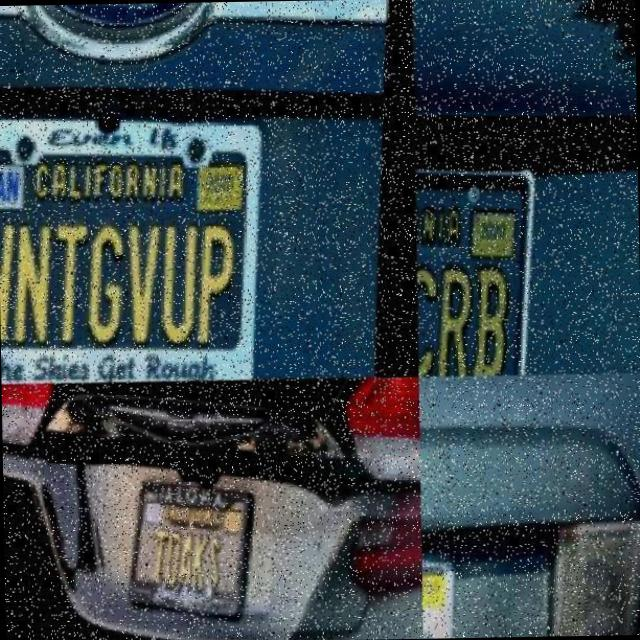LicensePlate: (0, 86, 284, 382), (414, 141, 585, 377), (130, 464, 258, 616), (422, 546, 550, 638)
